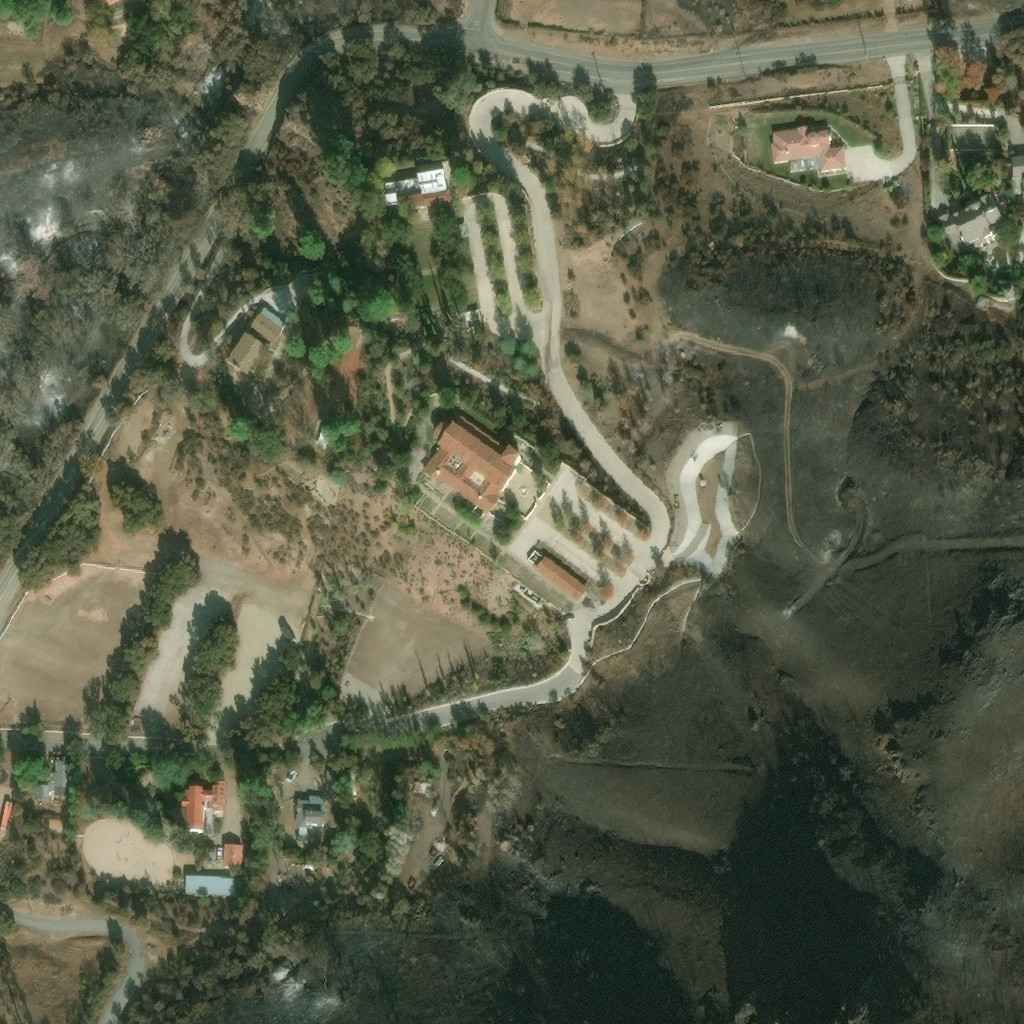0 no-damage: (423, 415, 523, 516), (771, 127, 848, 174), (940, 199, 994, 252), (532, 555, 590, 603), (180, 781, 227, 833), (227, 331, 273, 379), (296, 795, 326, 850), (396, 168, 450, 197), (184, 874, 239, 898), (248, 314, 284, 347), (326, 770, 351, 808), (979, 193, 1005, 227), (52, 760, 71, 802), (260, 306, 290, 330), (412, 193, 452, 209), (224, 843, 244, 866), (383, 180, 399, 208), (1012, 157, 1023, 197), (0, 802, 14, 830), (316, 427, 333, 450), (85, 0, 126, 8), (37, 784, 50, 804), (280, 873, 293, 884), (303, 861, 315, 870), (702, 481, 706, 486)
2 major-damage: (408, 773, 439, 797), (434, 854, 446, 866)
